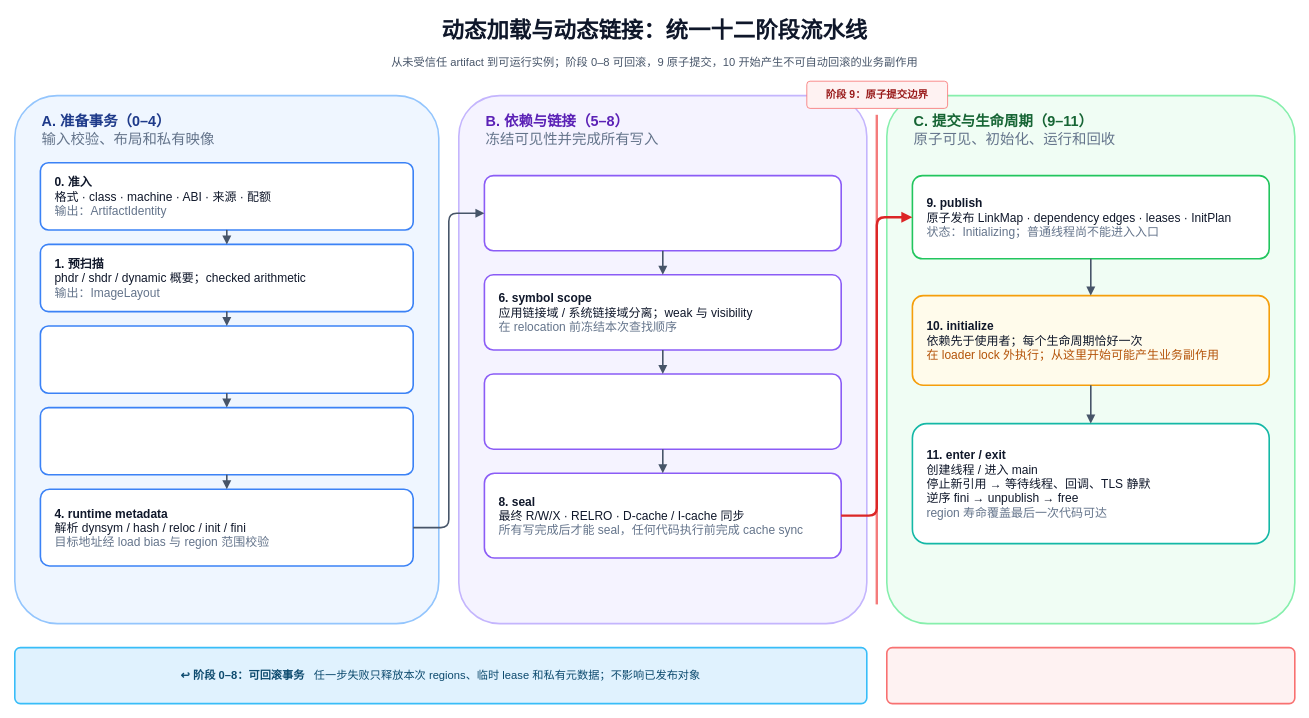
Some shapes in this 1309 by 718 pixel diagram are drawn without their labels. Each missing label, with the centre of its shape:
"2. reserve / allocate 定义 load bias；建立未发布 regions 此时其他线程不可见" belongs at [226,359].
"3. copy / zero 复制 p_filesz；显式清零 BSS 不允许依赖 allocator 恰好返回零内存" belongs at [226,440].
"5. 依赖发现 DT_NEEDED 闭包；FileIdentity / SONAME 去重 限制深度、数量、环策略和所有权边" belongs at [662,212].
"7. relocation RELATIVE → data/GOT → PLT（NOW） 逐次校验目标范围、宽度、对齐和类型" belongs at [662,411].
"阶段 10 以后：副作用不可自动回滚 失败可销毁整个实例，但不能撤销 ctor 已产生的 IO、线程或外部状态" belongs at [1090,675].
